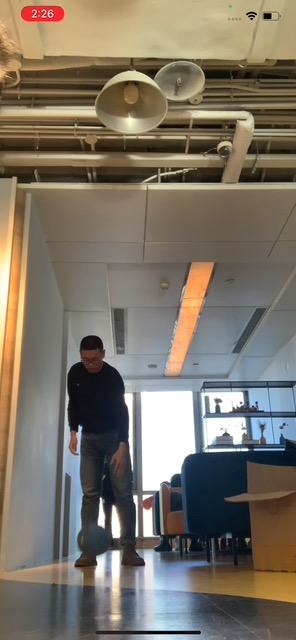ball: (76, 524, 110, 555)
